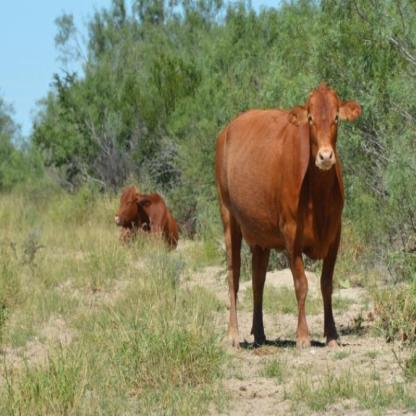cow: (214, 80, 361, 350), (114, 184, 180, 250)
